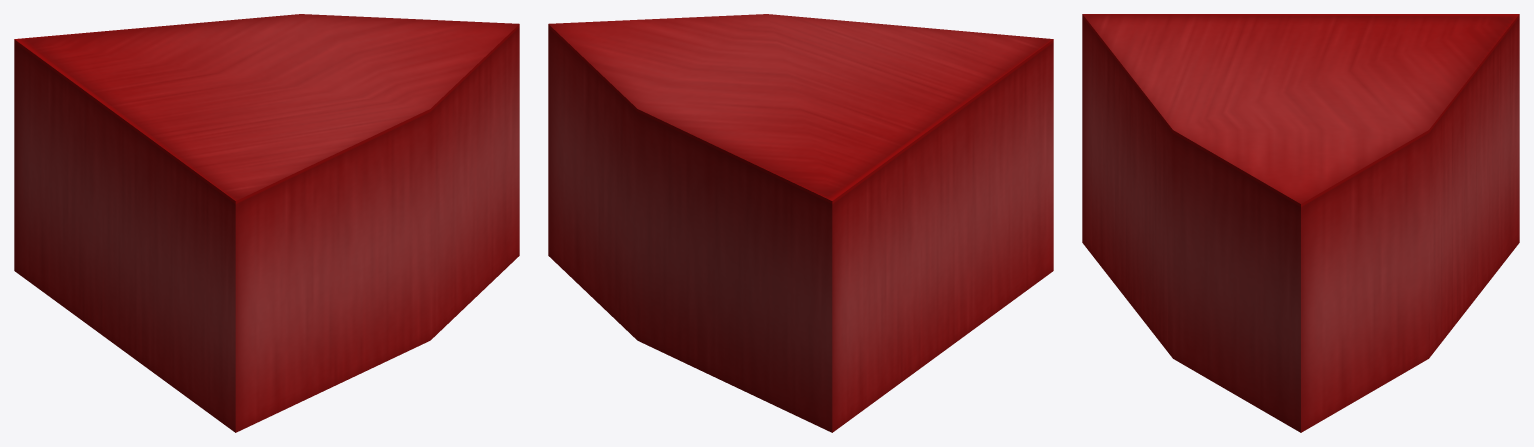
File: steelTriangle.obj
The picture shows the model from 3 angles, left to right: view 1: azimuth 30°, elevation 25°; view 2: azimuth 150°, elevation 25°; view 3: azimuth 270°, elevation 25°; orthographic projection.
Visible parts, largest first — view 1: steelTriangle; view 2: steelTriangle; view 3: steelTriangle.
Part boxes in pixels (x1,y1,x2,y2): steelTriangle: [14, 14, 519, 432]; steelTriangle: [548, 14, 1053, 432]; steelTriangle: [1082, 14, 1519, 432].
Bounding box in the file's own units: 1.78 × 1 × 1.73.
1 material, 1 textured.
